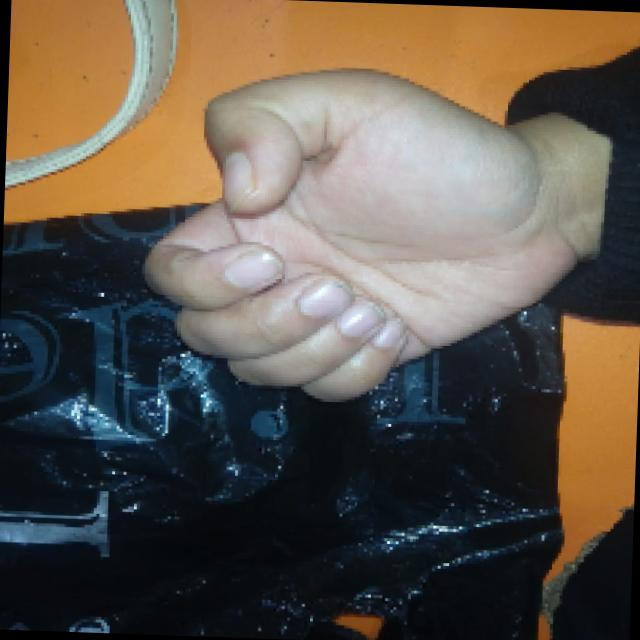Nail: (224, 248, 282, 286), (298, 279, 350, 315), (223, 149, 254, 209), (336, 300, 383, 335), (373, 317, 403, 347)
